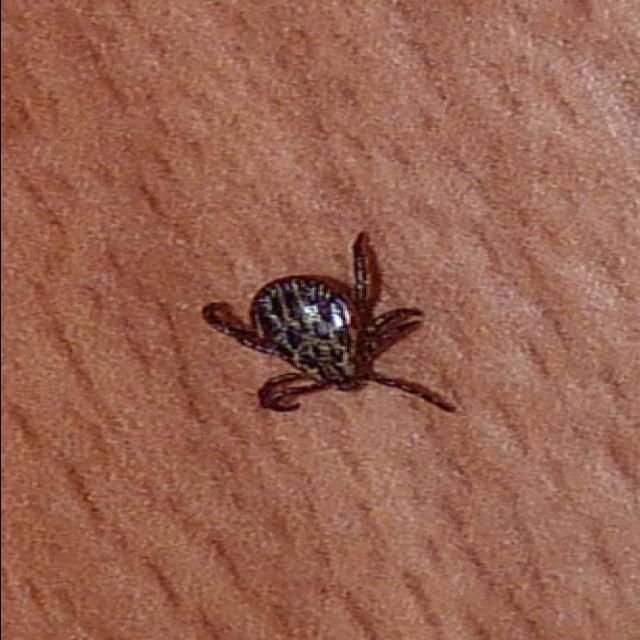Dermacentor Reticulatus-M: (204, 232, 457, 413)
